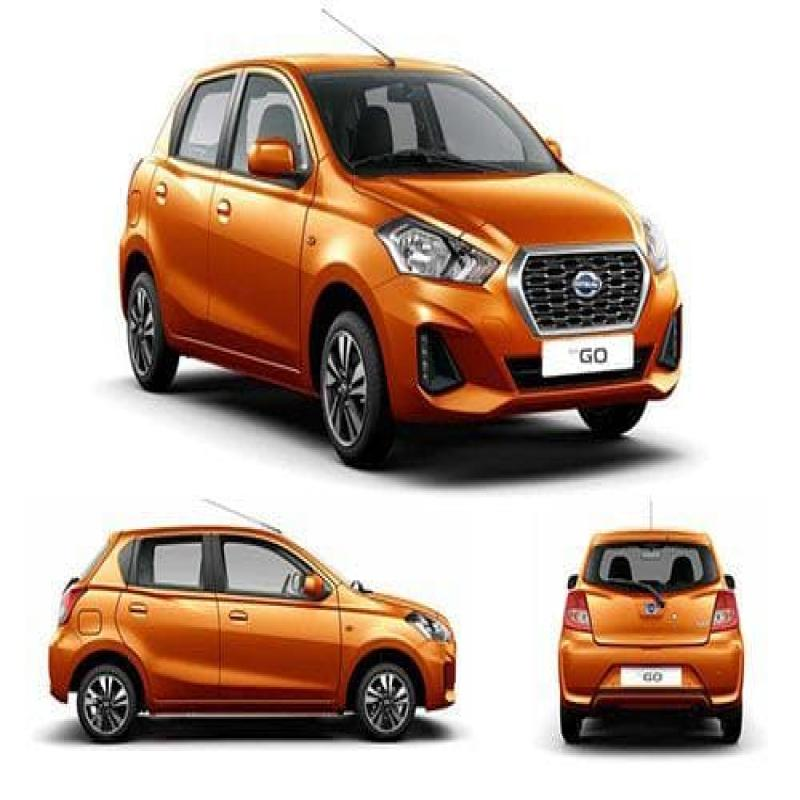car: (127, 44, 696, 476), (16, 486, 482, 800), (536, 510, 746, 750)
